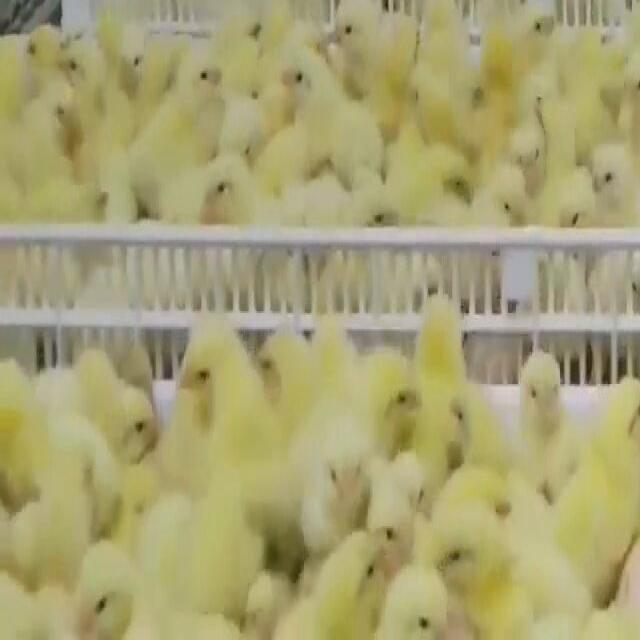chicks: (170, 325, 247, 415), (69, 562, 141, 640), (428, 501, 494, 573), (195, 524, 251, 602), (0, 396, 44, 492), (254, 331, 312, 401), (581, 455, 640, 523), (112, 388, 164, 462), (585, 143, 633, 222), (514, 358, 562, 435), (49, 462, 86, 560), (594, 377, 640, 450), (335, 539, 390, 600), (266, 524, 309, 600), (376, 361, 425, 426), (318, 442, 366, 508), (414, 314, 463, 377), (400, 576, 448, 640), (197, 178, 256, 226), (354, 180, 406, 234), (428, 152, 479, 207), (52, 94, 95, 155), (322, 8, 379, 52), (373, 34, 414, 94), (69, 354, 108, 417), (10, 591, 60, 640), (368, 498, 409, 554), (490, 176, 531, 232), (546, 178, 588, 232), (338, 112, 372, 178), (413, 81, 452, 138), (507, 125, 548, 178), (540, 456, 582, 506), (514, 12, 561, 56), (221, 122, 266, 167), (455, 490, 516, 523), (399, 464, 440, 513), (192, 50, 229, 104), (420, 0, 466, 43), (19, 25, 61, 72), (125, 472, 159, 528), (113, 29, 147, 84), (444, 397, 475, 450), (614, 59, 640, 122), (277, 58, 316, 99), (82, 180, 115, 222), (265, 0, 293, 44), (56, 50, 90, 85)
